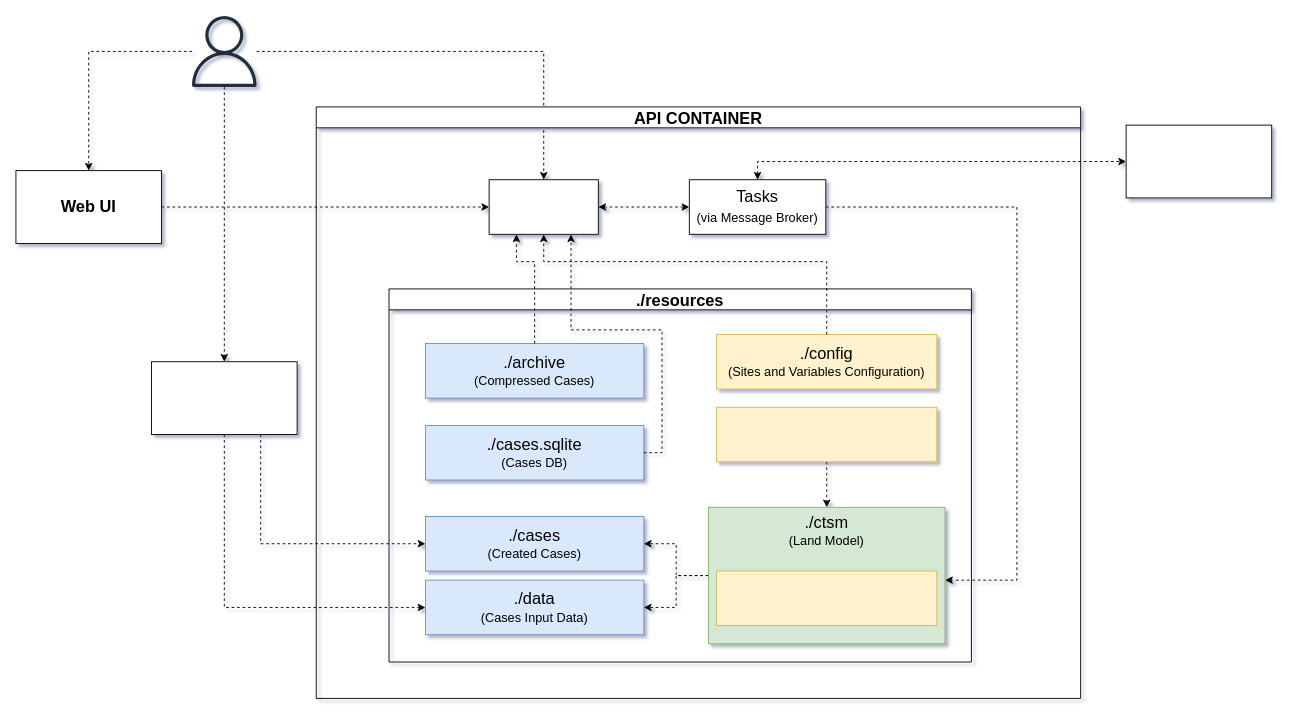
Image size: 1293x720. Some labels were removed from this diagram. Here are the shapes that lost their labels. From the top down, the centre of each, then its label:
the point at 1198,161: Message Broker (RabbitMQ)
the point at 543,206: API
the point at 224,398: Jupyter Server
the point at 826,434: ./dotcime -> ~/.cime (Machine Configuration)
the point at 826,598: ./overwrites* (Land Model Overwrites)
